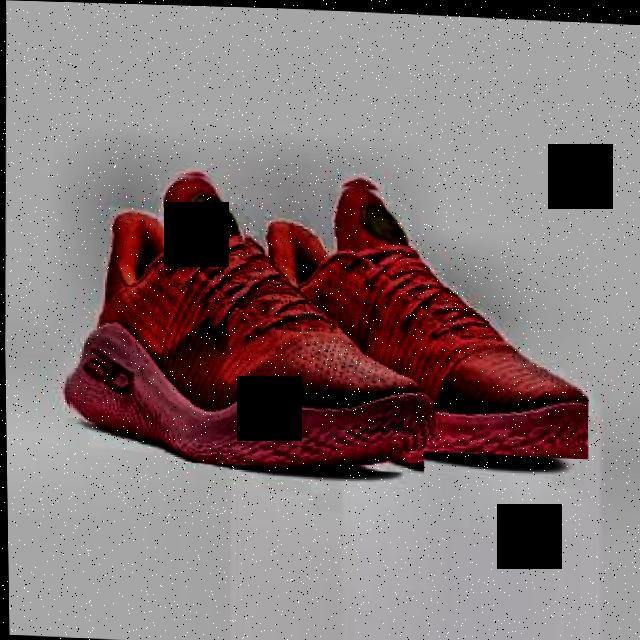shoe: (60, 164, 427, 470), (235, 173, 591, 455)
